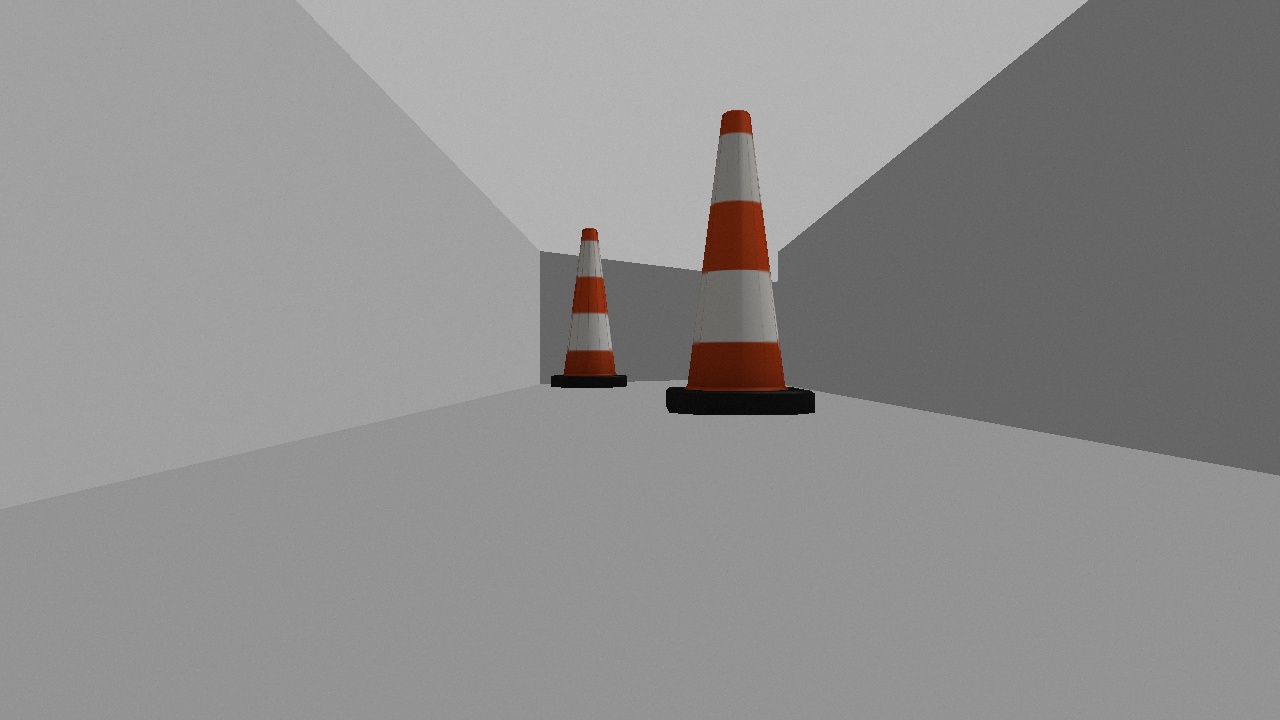barricade: (654, 107, 822, 423), (545, 223, 633, 393)
